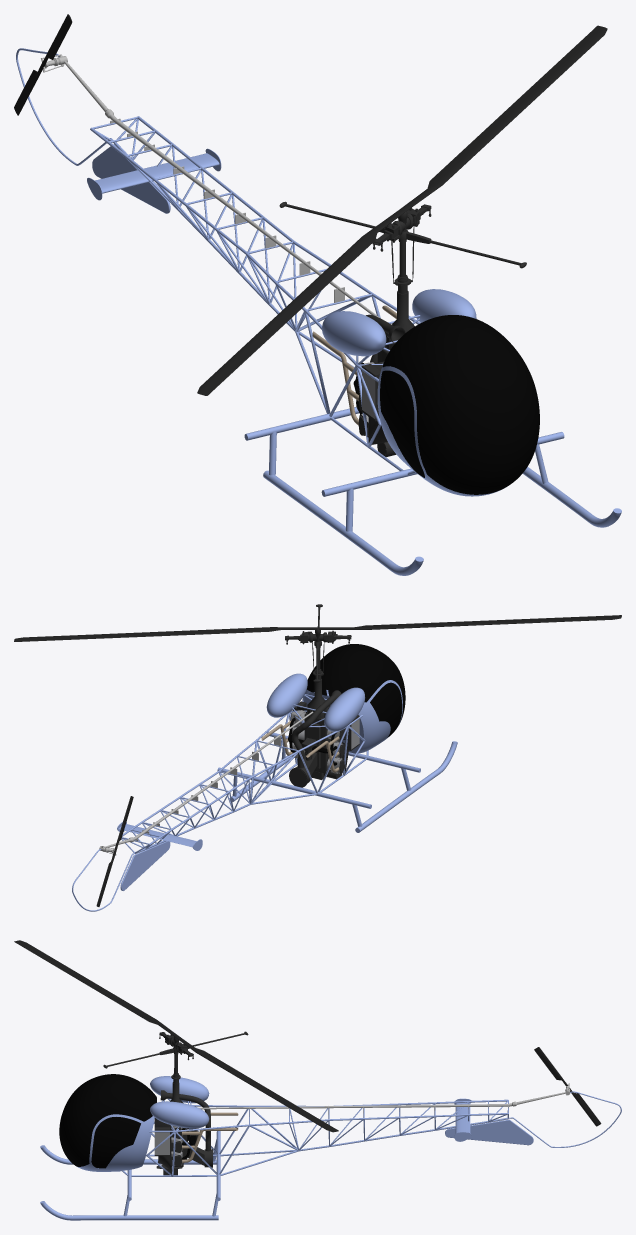
Rendered from bell_h-13.glb.
The picture shows the model from 3 angles, top to bottom: view 1: azimuth 30°, elevation 25°; view 2: azimuth 150°, elevation 25°; view 3: azimuth 270°, elevation 25°; orthographic projection. The views are drawn at different scales.
Parts seen in each view (by area): view 1: mesh.003_paint_0, mesh.001_glass_0, mesh.002_prop_0, mesh_Material.001_0, mesh.004_strut_0, mesh.006_Material.002_0; view 2: mesh.003_paint_0, mesh.001_glass_0, mesh.002_prop_0, mesh.006_Material.002_0, mesh_Material.001_0, mesh.004_strut_0, mesh.007_Blinds_Roman_Hobbled_Blue_0, mesh.008_copper_0; view 3: mesh.003_paint_0, mesh.001_glass_0, mesh.002_prop_0, mesh_Material.001_0, mesh.006_Material.002_0, mesh.004_strut_0, mesh.007_Blinds_Roman_Hobbled_Blue_0, mesh.008_copper_0.
Boxes of the visible parts, x1=… form: mesh.003_paint_0: x1=16, y1=48, x2=621, y2=575; mesh.001_glass_0: x1=380, y1=315, x2=539, y2=494; mesh.002_prop_0: x1=14, y1=14, x2=607, y2=395; mesh_Material.001_0: x1=279, y1=201, x2=526, y2=363; mesh.004_strut_0: x1=41, y1=54, x2=380, y2=318; mesh.006_Material.002_0: x1=356, y1=347, x2=396, y2=457; mesh.003_paint_0: x1=72, y1=673, x2=457, y2=911; mesh.001_glass_0: x1=307, y1=644, x2=405, y2=737; mesh.002_prop_0: x1=14, y1=615, x2=621, y2=906; mesh.006_Material.002_0: x1=289, y1=701, x2=359, y2=787; mesh_Material.001_0: x1=285, y1=604, x2=351, y2=768; mesh.004_strut_0: x1=99, y1=711, x2=313, y2=855; mesh.007_Blinds_Roman_Hobbled_Blue_0: x1=291, y1=710, x2=359, y2=773; mesh.008_copper_0: x1=261, y1=720, x2=339, y2=772; mesh.003_paint_0: x1=40, y1=1076, x2=621, y2=1220; mesh.001_glass_0: x1=59, y1=1074, x2=156, y2=1168; mesh.002_prop_0: x1=14, y1=940, x2=601, y2=1132; mesh_Material.001_0: x1=103, y1=1031, x2=248, y2=1151; mesh.006_Material.002_0: x1=154, y1=1118, x2=212, y2=1175; mesh.004_strut_0: x1=198, y1=1083, x2=570, y2=1116; mesh.007_Blinds_Roman_Hobbled_Blue_0: x1=154, y1=1125, x2=182, y2=1165; mesh.008_copper_0: x1=182, y1=1112, x2=238, y2=1162.
Bounding box in the file's own units: 7.65 × 2.92 × 10.24.
